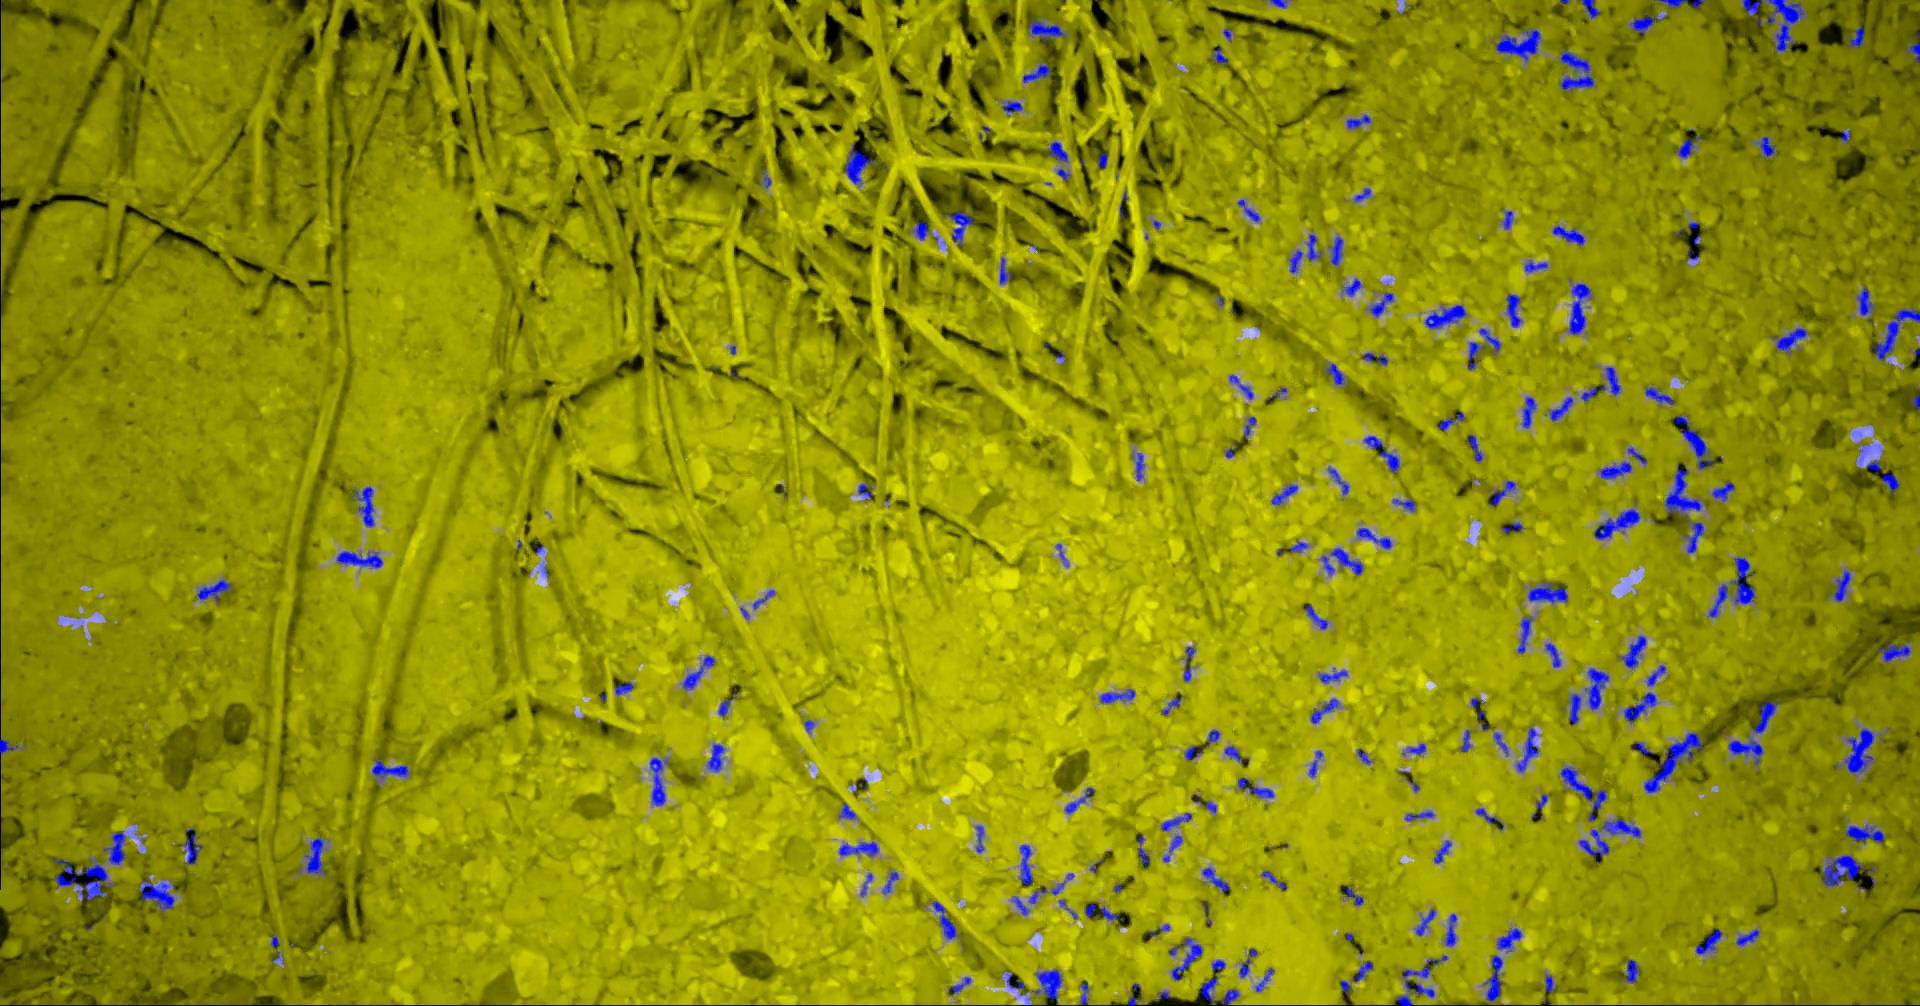ant: (1643, 732, 1702, 793), (1674, 415, 1722, 469), (1559, 766, 1606, 821), (1870, 307, 1919, 359), (51, 857, 108, 901), (1401, 954, 1448, 997), (1663, 464, 1702, 514), (1495, 28, 1540, 62), (1168, 937, 1203, 981), (1592, 508, 1641, 539), (1559, 50, 1594, 91), (1844, 727, 1874, 774), (1363, 434, 1399, 473), (843, 144, 875, 184), (1821, 855, 1862, 887), (1567, 282, 1590, 334), (1199, 976, 1239, 1005), (138, 878, 174, 911), (1730, 558, 1754, 605), (682, 655, 714, 690), (1515, 727, 1538, 772), (1583, 667, 1608, 710), (1032, 969, 1062, 1005), (1423, 304, 1465, 328), (1623, 692, 1656, 723), (1578, 829, 1609, 862), (943, 211, 973, 245), (1727, 738, 1763, 765), (1330, 547, 1363, 575), (649, 757, 668, 805), (932, 901, 956, 939), (1751, 699, 1778, 733), (1771, 326, 1807, 352), (1483, 954, 1502, 1001), (1528, 582, 1567, 603), (1620, 635, 1646, 668), (335, 550, 382, 568), (1027, 19, 1065, 41), (196, 579, 231, 602), (353, 486, 373, 526), (371, 757, 408, 779), (180, 827, 202, 864), (1064, 788, 1095, 813), (1630, 11, 1666, 33), (1601, 818, 1641, 837), (1356, 527, 1390, 549), (303, 837, 324, 873), (103, 831, 124, 864), (1845, 824, 1884, 842), (1707, 583, 1727, 617), (1876, 641, 1911, 661), (1237, 777, 1272, 796), (1695, 929, 1722, 954), (1310, 699, 1338, 723), (1201, 868, 1229, 892), (1552, 225, 1583, 245), (1368, 291, 1393, 316), (1490, 480, 1515, 506), (1495, 927, 1521, 951), (1476, 807, 1503, 829), (1684, 520, 1703, 553), (1229, 373, 1253, 399), (1084, 902, 1119, 920), (1831, 569, 1850, 601), (1327, 466, 1349, 494), (838, 841, 877, 856), (1018, 843, 1032, 885), (1304, 603, 1327, 629), (1238, 948, 1257, 977), (1677, 135, 1702, 158), (1548, 398, 1572, 420), (1505, 293, 1521, 326), (1161, 812, 1191, 829), (1162, 835, 1182, 861), (1415, 908, 1435, 935), (1022, 64, 1050, 83), (1260, 870, 1288, 889), (1599, 461, 1630, 478), (1478, 328, 1501, 351), (1271, 484, 1297, 504), (1517, 616, 1531, 653), (1437, 412, 1464, 431), (1857, 287, 1874, 315), (1644, 386, 1672, 404), (1098, 688, 1134, 702), (706, 743, 724, 771), (1237, 199, 1260, 221), (1710, 480, 1735, 500), (1004, 970, 1025, 995), (717, 691, 737, 716), (1467, 340, 1483, 370), (1317, 668, 1347, 683), (1465, 434, 1482, 462), (1443, 913, 1457, 946), (1191, 794, 1215, 813), (1255, 967, 1274, 991), (1580, 384, 1605, 401), (1605, 366, 1620, 395), (1521, 396, 1535, 428), (1755, 136, 1775, 158), (752, 589, 775, 608), (1432, 840, 1451, 862), (1048, 141, 1067, 163), (1646, 664, 1665, 686), (1305, 234, 1321, 260), (947, 976, 970, 993), (1568, 694, 1581, 725), (1735, 929, 1759, 945), (1308, 749, 1322, 777), (1324, 363, 1343, 384), (1544, 641, 1559, 667), (1137, 835, 1149, 865), (1352, 960, 1371, 981), (1330, 236, 1342, 265), (1655, 0, 1703, 8), (1493, 730, 1509, 754), (1848, 25, 1864, 47), (1345, 114, 1370, 128), (1131, 452, 1144, 480), (1903, 41, 1919, 64), (1183, 647, 1194, 681), (883, 871, 898, 894), (1580, 0, 1599, 18), (1879, 473, 1898, 490), (1343, 887, 1363, 904), (1011, 895, 1029, 915), (1001, 100, 1022, 116), (1625, 959, 1639, 982), (1209, 47, 1227, 65), (1342, 278, 1360, 296), (1627, 447, 1646, 464), (1161, 697, 1180, 714), (1289, 249, 1302, 273), (1363, 352, 1387, 365), (999, 257, 1011, 283), (1404, 810, 1434, 821), (0, 737, 18, 753), (838, 803, 856, 819), (1392, 498, 1415, 511), (860, 873, 872, 895), (1183, 746, 1204, 760), (1501, 521, 1523, 533), (1632, 742, 1653, 754), (914, 221, 930, 239), (1029, 888, 1046, 903), (1243, 417, 1255, 439), (1321, 555, 1333, 575), (857, 483, 872, 499), (1224, 746, 1241, 761), (1352, 187, 1370, 201), (615, 681, 632, 695), (1524, 260, 1547, 271), (1404, 743, 1425, 754), (1460, 729, 1470, 751), (1356, 748, 1370, 763), (1289, 541, 1307, 553), (975, 826, 983, 852), (1544, 974, 1556, 992), (1079, 982, 1088, 1005), (1338, 981, 1352, 995), (1502, 210, 1512, 229), (1208, 729, 1219, 746), (1396, 995, 1412, 1005), (1211, 959, 1225, 970), (1097, 152, 1107, 168), (1269, 0, 1288, 8)
